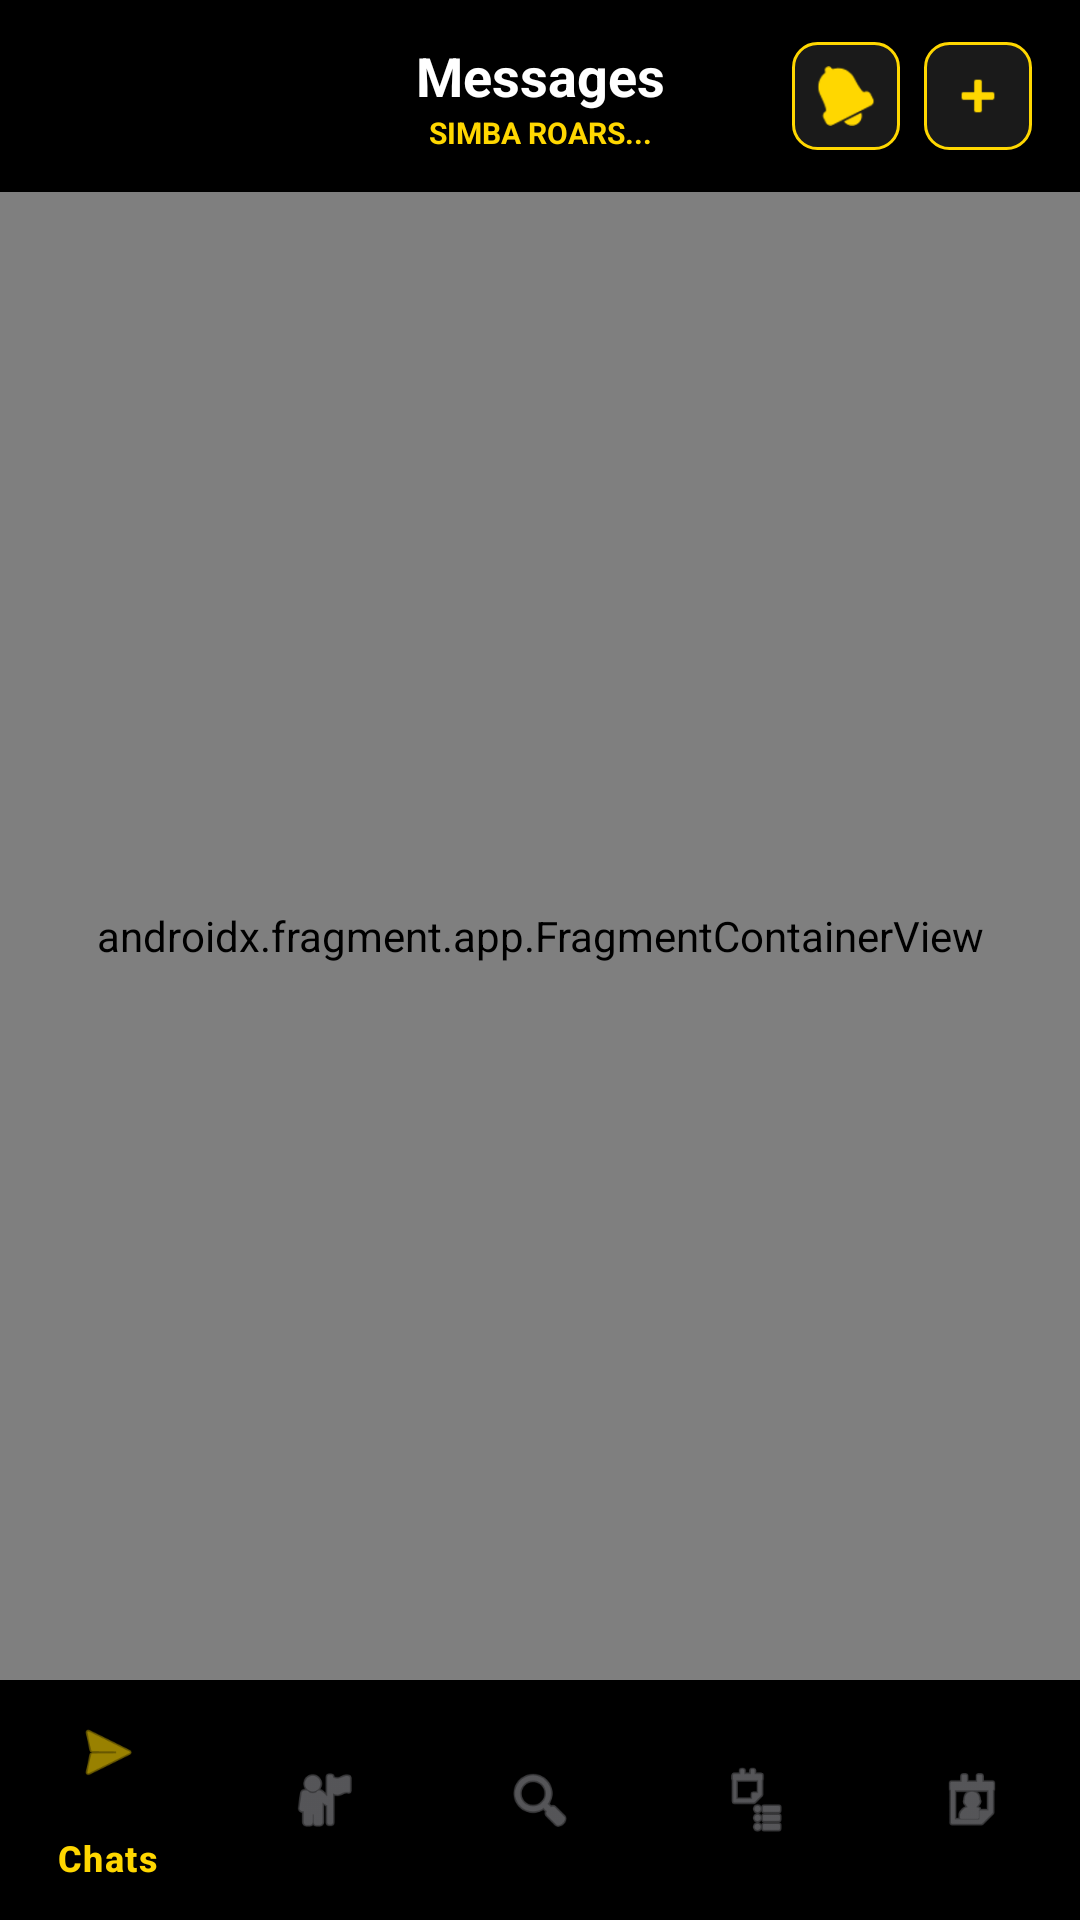

Point at icon controls on the screen. Image size 1080 x 1920, points as (x,y).
add: (978,96)
popup reminder: (846,96)
